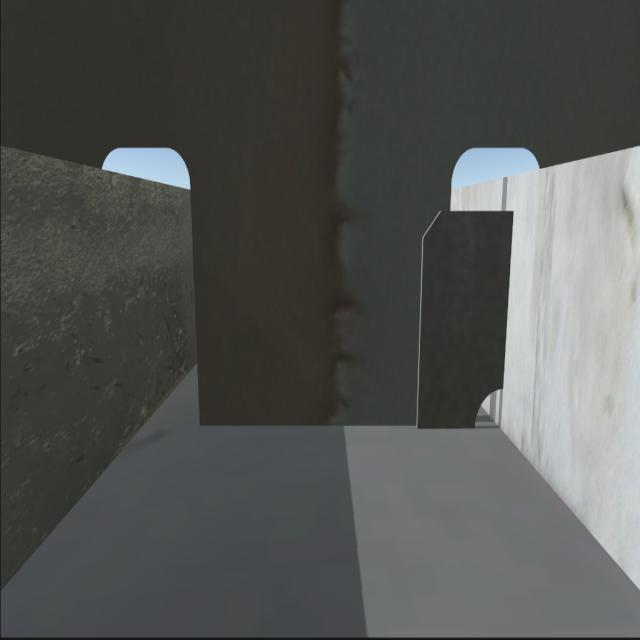fillet_hole: (464, 381, 506, 431)
fillet_yong_jeop_jang: (202, 418, 474, 438)
longi_yong_jeop_jang: (498, 214, 516, 396)
plate_CP03: (413, 204, 504, 423)
